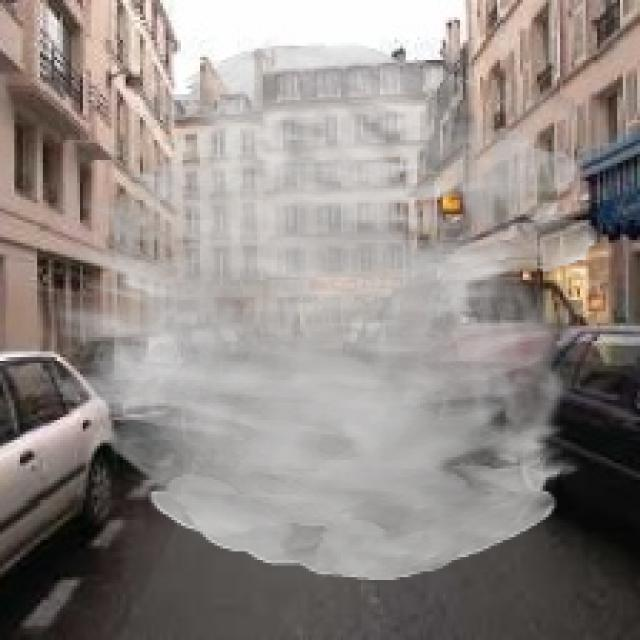smoke: (49, 43, 600, 580)
